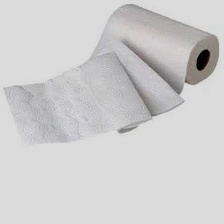tissue: (79, 0, 224, 138), (0, 46, 156, 150)
